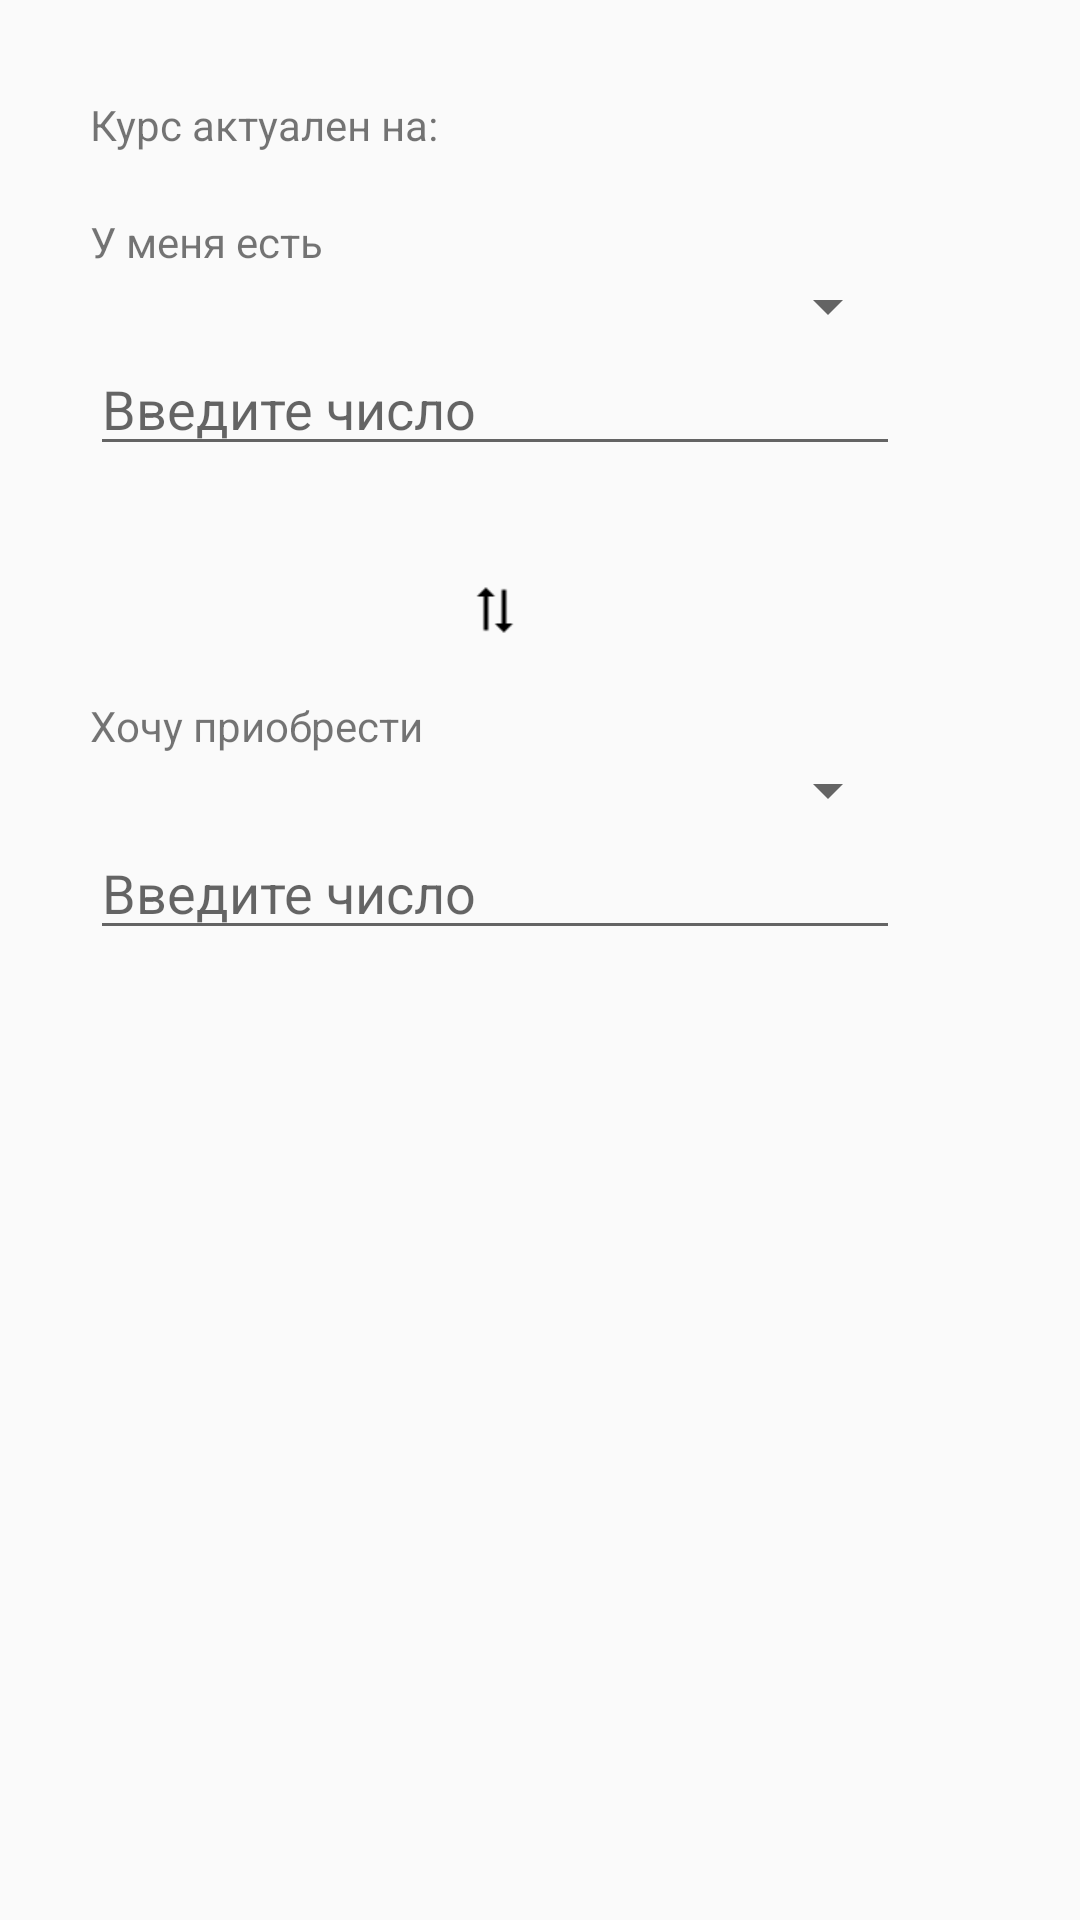

Where icons sit on this 1080 x 1920 app screen, as [x1,y1,x2,y2]:
pointers: [477,587,513,633]
